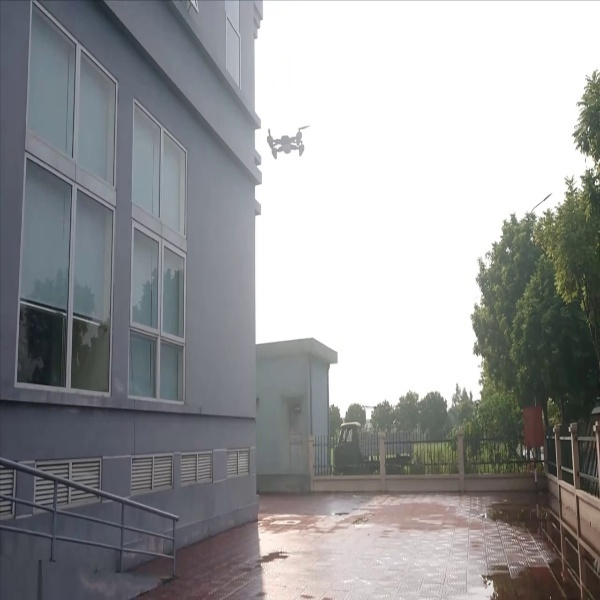drone: (261, 118, 311, 164)
